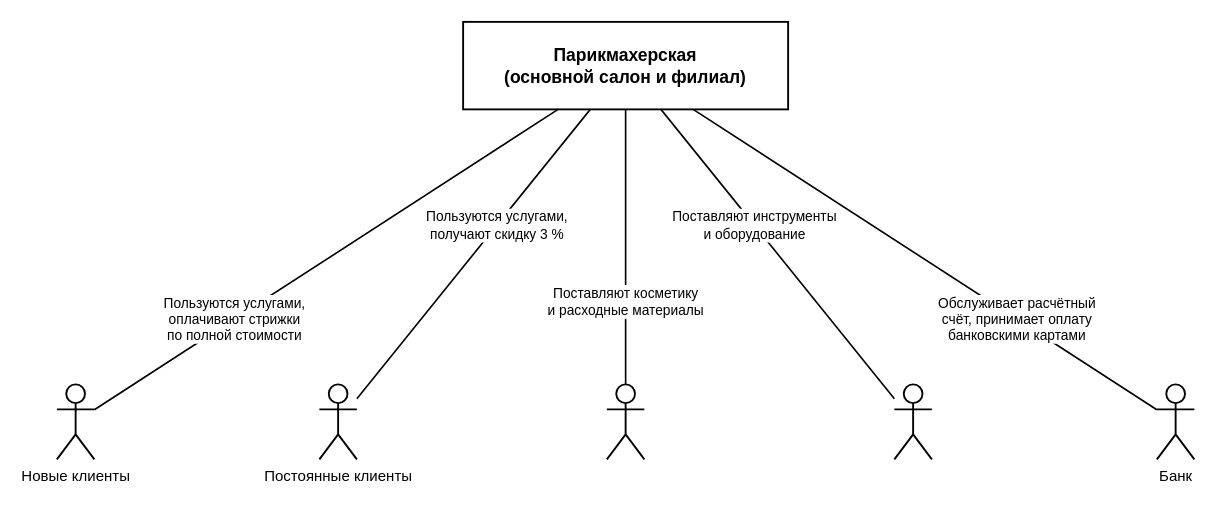
Image size: 1218x526. Some labels were removed from this diagram. The shapes that lost their labels are listed below. From the top down, each one's centre as x and y in pixels, then its label:
At (x=625, y=421): "Поставщики косметики и расходных материалов".
At (x=912, y=421): "Поставщики оборудования".
